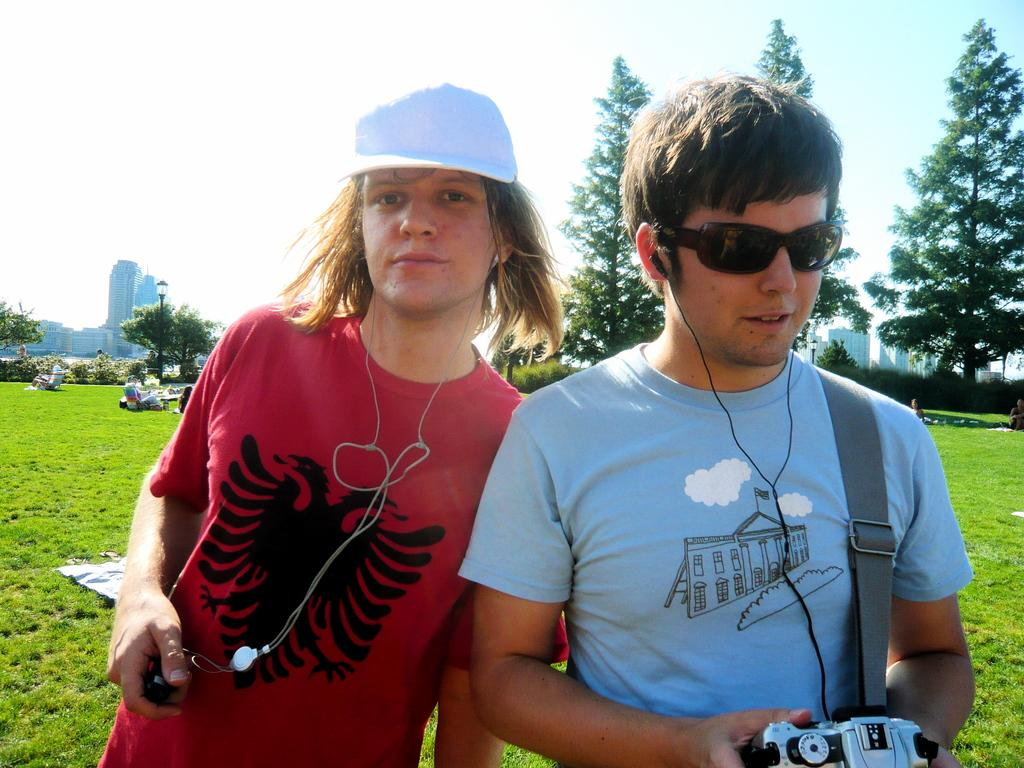Hat: (338, 78, 518, 182)
